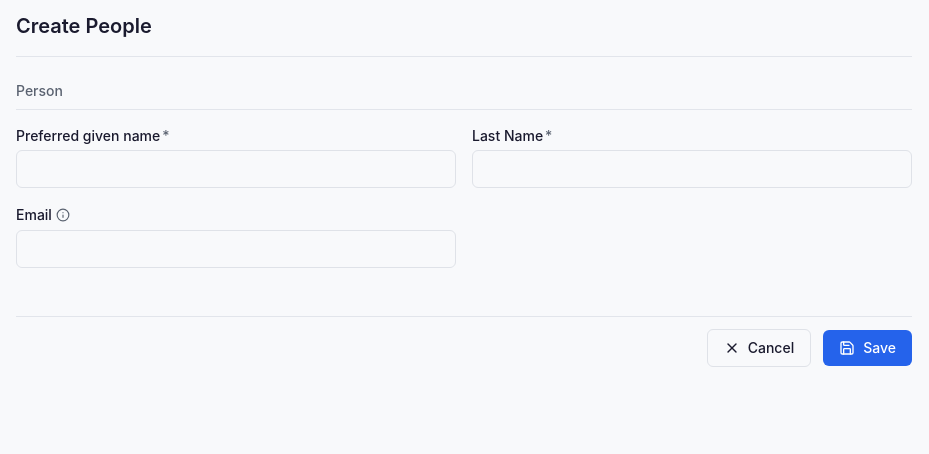
Create and base edit use full metadata and actual write contracts › does not announce a saved record when the response has no usable primary key
Step 1. Type "Keep input" into the field labelled "Preferred given name*" → (236, 169), box [16, 150, 456, 188]
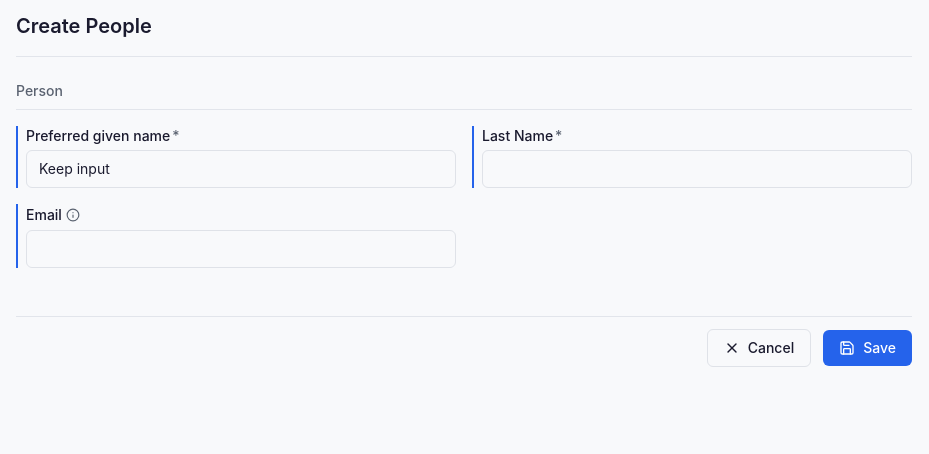
Step 2. Type "Sample" into the field labelled "Last Name*" → (697, 169), box [482, 150, 912, 188]
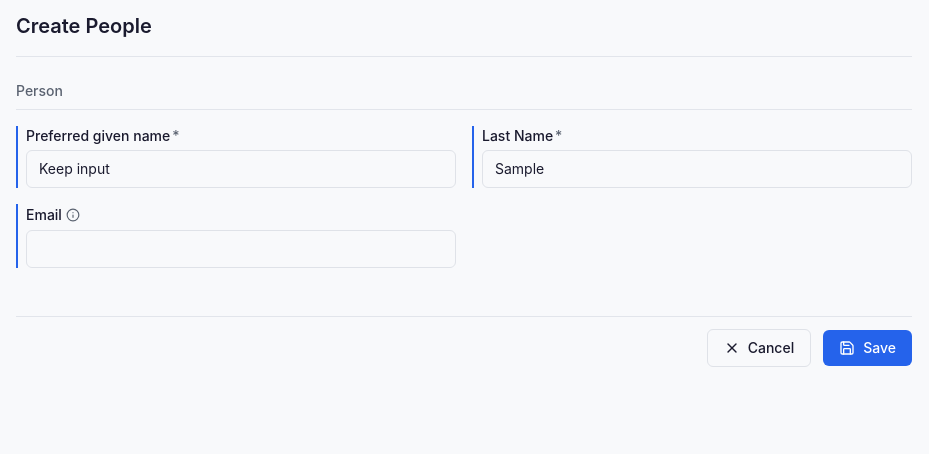
Step 3. Click the button "Save" → (868, 348), box [823, 330, 912, 366]
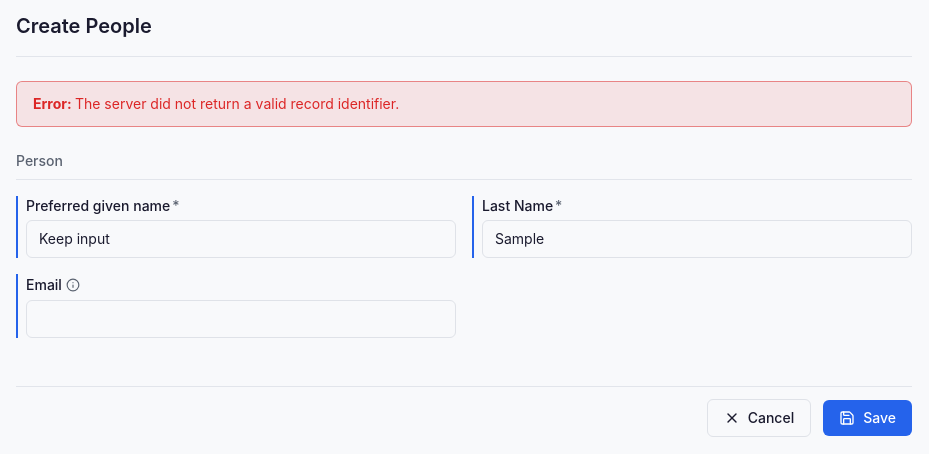
Expected: the message shows "The server did not return a valid record identifier.", [75, 95, 399, 112]
